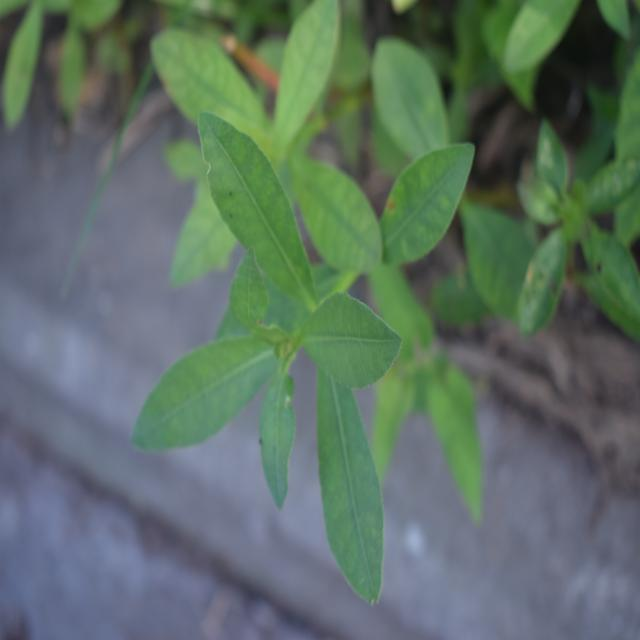Alligatorweed: (146, 109, 427, 589)
